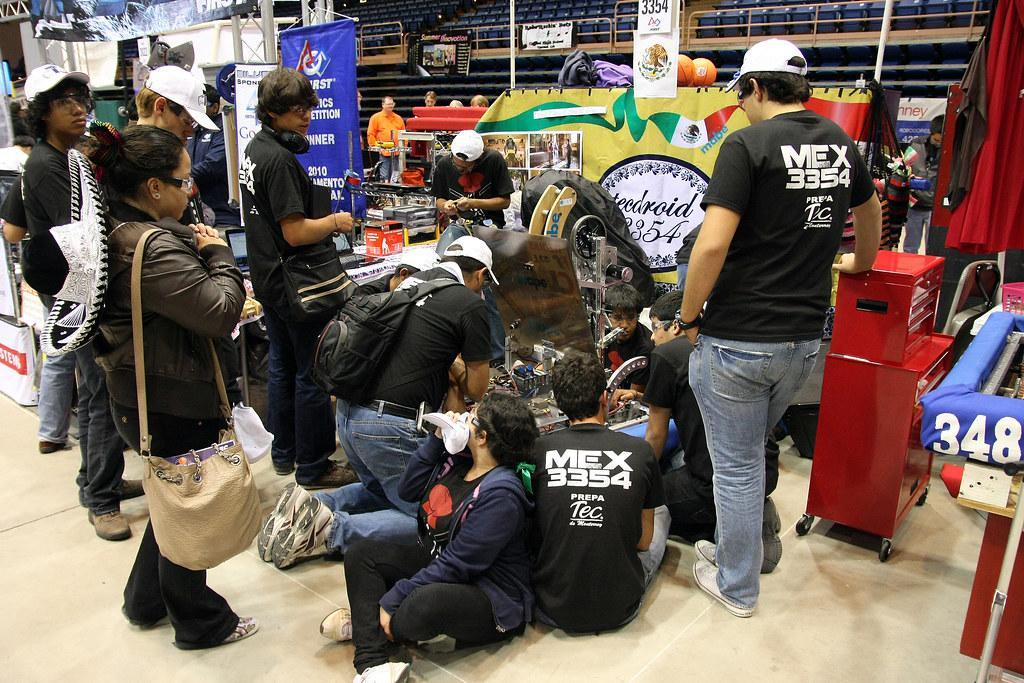robot: (426, 163, 732, 486), (917, 264, 1024, 479)
